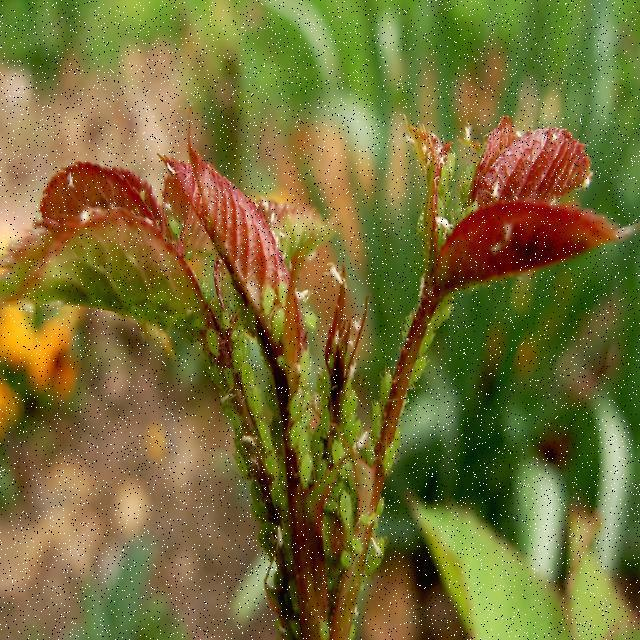Aphids: (397, 290, 450, 359), (367, 351, 405, 413), (262, 300, 296, 365), (399, 335, 430, 396), (300, 289, 332, 344), (250, 271, 280, 323), (286, 344, 317, 392), (431, 298, 464, 337)
